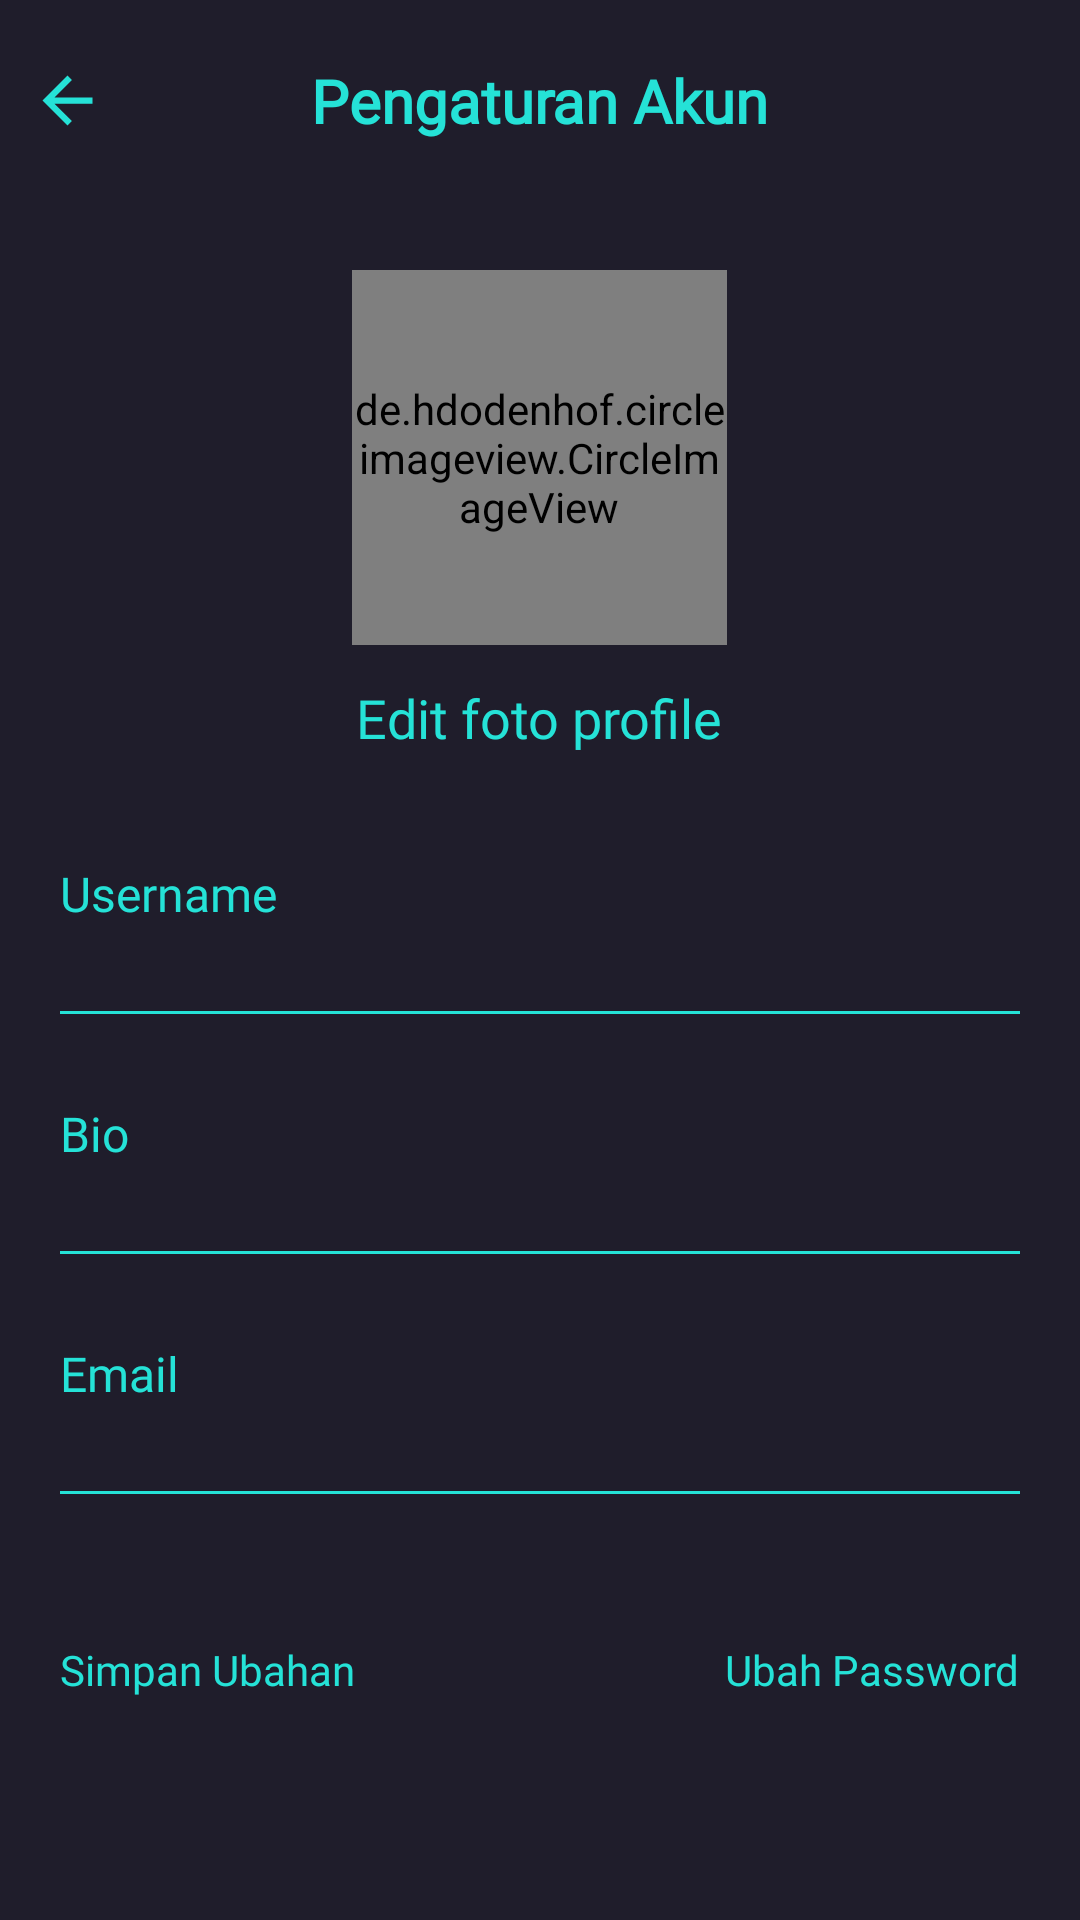

Named icons in this screenshot (1080 × 1920) and their centers, (x=x, y=y):
arrow back: (x=67, y=100)
